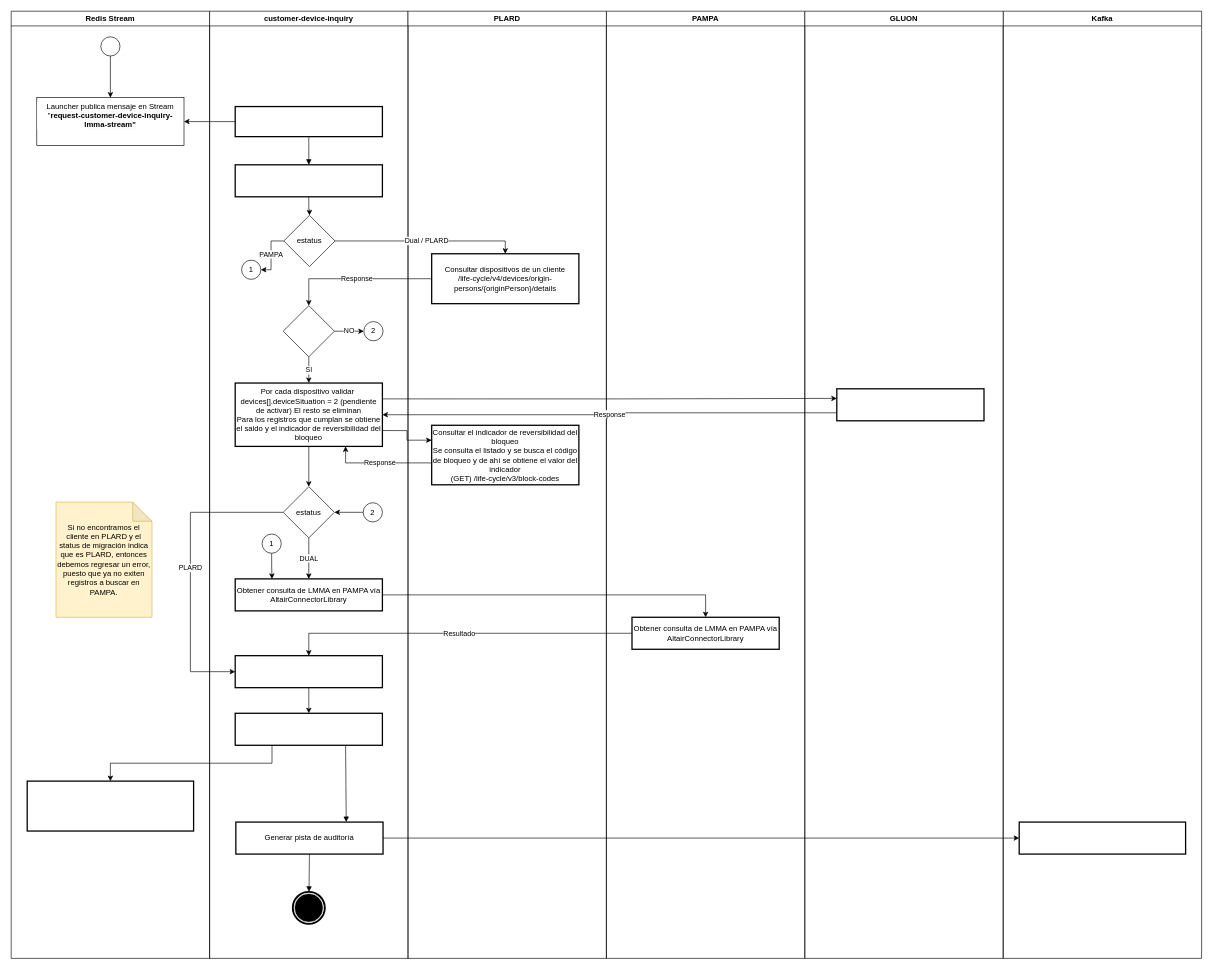
The diagram is 1213 pixels wide and 970 high, and some of its shapes have lost their labels. The shapes that lost their labels are listed below. From the top down, each one's centre as x and y in pixels, then its label:
At point (308, 121): "Recibir mensaje de Redis Stream".
At point (308, 180): "Validar estatus migración PLARD Consultar status CardPlaceLocatorLibrary".
At point (308, 331): "¿Existen dispositivos?".
At point (910, 404): "Obtener saldo de la cuenta (GET) /{account_id}/balances".
At point (308, 671): "Procesar respuestas para unir valores de PAMPA y PLARD".
At point (308, 729): "Construir respuesta para el Launcher Mensaje en formato PS7".
At point (110, 805): "Publicar mensaje respuesta response-customer-device-inquiry-lmma-stream".
At point (1102, 837): "Publicar pista de auditoría en tópico de Kafka".
